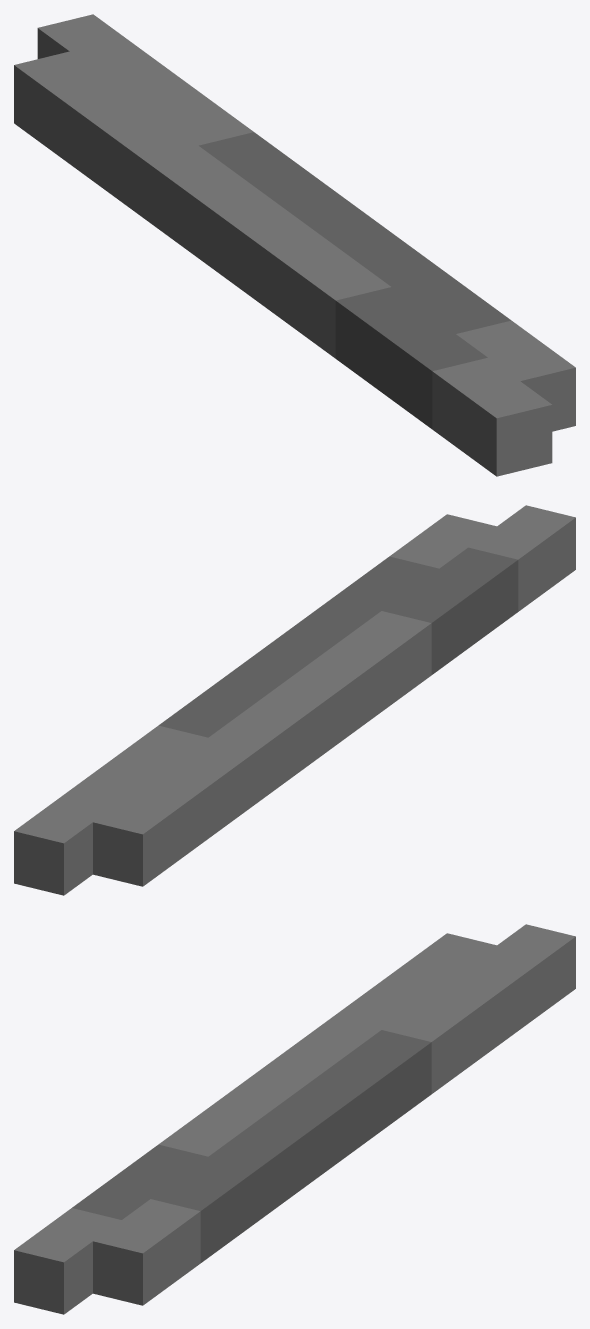
The model's file is Wing-19-Transtellar_Wing2_R.obj.
The picture shows the model from 3 angles, top to bottom: view 1: azimuth 30°, elevation 25°; view 2: azimuth 150°, elevation 25°; view 3: azimuth 330°, elevation 25°; orthographic projection. The views are drawn at different scales.
Parts seen in each view (by area): view 1: Transtellar_Wing2_R; view 2: Transtellar_Wing2_R; view 3: Transtellar_Wing2_R.
Boxes of the visible parts, bbox=[...] form: Transtellar_Wing2_R: bbox=[14, 14, 575, 476]; Transtellar_Wing2_R: bbox=[14, 505, 575, 895]; Transtellar_Wing2_R: bbox=[14, 924, 575, 1314].
Bounding box in the file's own units: 0.2 × 0.1 × 1.6.
Materials: 1 (1 with a texture image).
